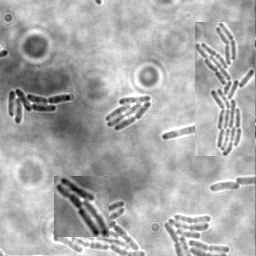Microcolony: (195, 22, 255, 156), (51, 200, 147, 255), (54, 176, 109, 237), (162, 212, 231, 255), (8, 89, 72, 126), (106, 96, 153, 132), (208, 182, 240, 193)
